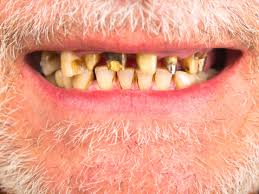decay: (103, 52, 125, 70), (163, 58, 177, 73), (182, 58, 196, 73), (197, 57, 208, 72)
normal: (153, 69, 173, 87), (137, 54, 156, 70), (56, 71, 72, 87), (173, 70, 188, 86), (187, 72, 198, 81)
rough: (61, 52, 83, 73)
yellow: (95, 69, 118, 89), (96, 67, 116, 87), (115, 67, 133, 87), (73, 72, 91, 91), (40, 52, 56, 72), (136, 69, 152, 89), (84, 54, 95, 69)
